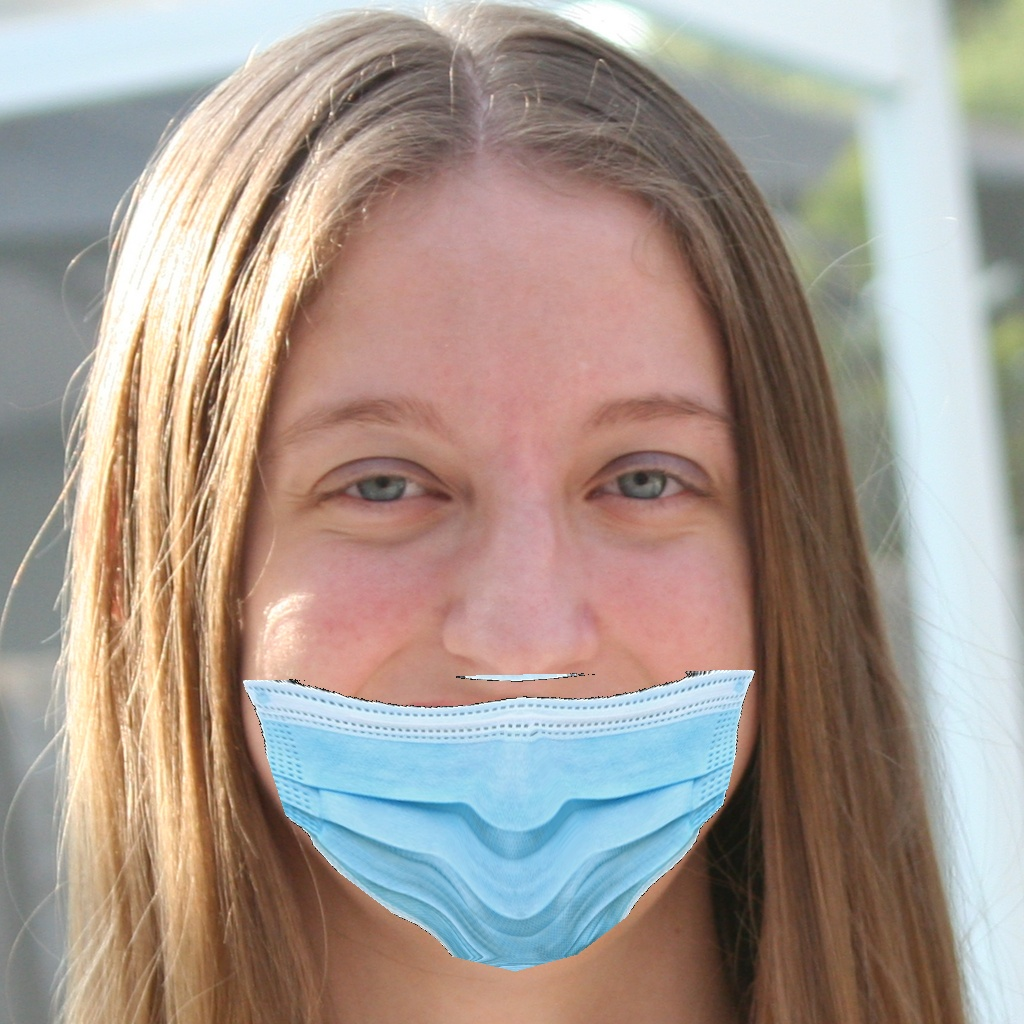mascarilla_mal_puesta: (219, 360, 874, 978)
